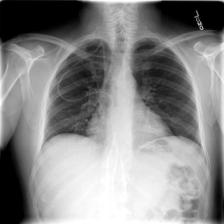normal: (39, 32, 208, 165)
